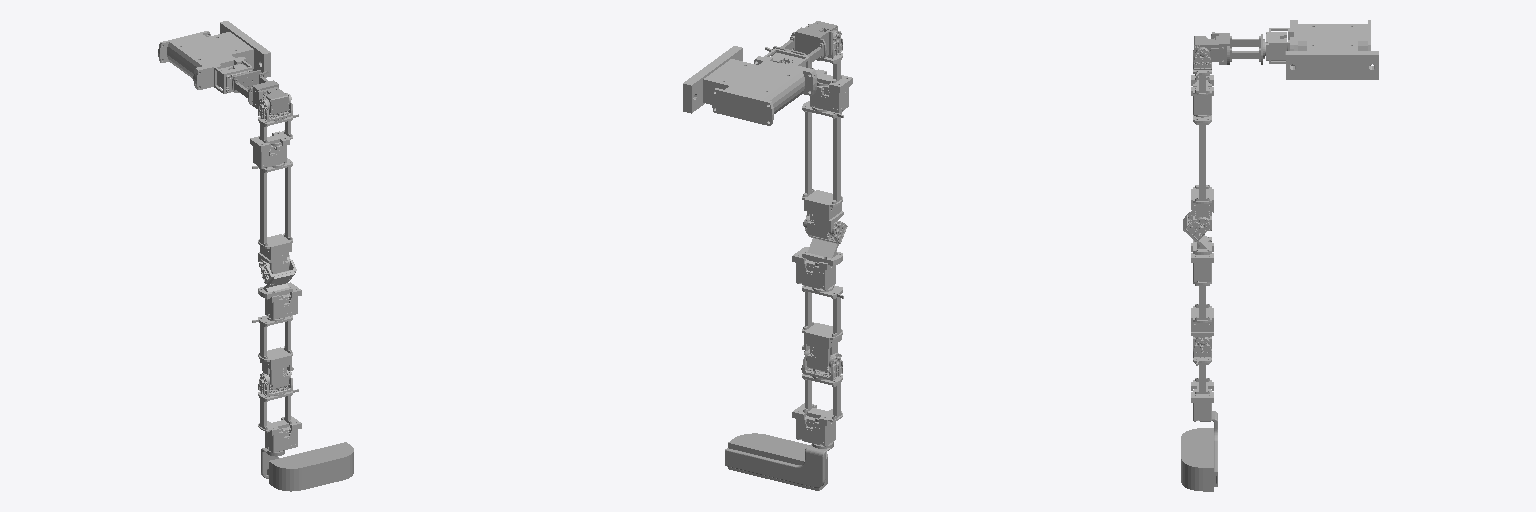
URDF robot description (UH-v3.0 final.SLDASM v9):
<?xml version="1.0" encoding="utf-8"?>
<!-- This URDF was automatically created by SolidWorks to URDF Exporter! Originally created by Stephen Brawner (brawner@gmail.com) 
     Commit Version: 1.6.0-4-g7f85cfe  Build Version: 1.6.7995.38578
     For more information, please see http://wiki.ros.org/sw_urdf_exporter -->
<robot
  name="UH-v3.0 final.SLDASM v9">
  <link
    name="base_link">
    <inertial>
      <origin
        xyz="0.00561237713648539 -0.00649825664579372 0.0124886395093204"
        rpy="0 0 0" />
      <mass
        value="0.192970315600193" />
      <inertia
        ixx="0.000108537349210273"
        ixy="1.51872821036675E-07"
        ixz="-2.2783140434456E-08"
        iyy="0.000130879701084588"
        iyz="-8.40191538950099E-11"
        izz="0.000218823485546675" />
    </inertial>
    <visual>
      <origin
        xyz="0 0 0"
        rpy="0 0 0" />
      <geometry>
        <mesh
          filename="meshes/base_link.STL" />
      </geometry>
      <material
        name="">
        <color
          rgba="0.752941176470588 0.752941176470588 0.752941176470588 1" />
      </material>
    </visual>
    <collision>
      <origin
        xyz="0 0 0"
        rpy="0 0 0" />
      <geometry>
        <mesh
          filename="meshes/base_link.STL" />
      </geometry>
    </collision>
  </link>
  <link
    name="Link1">
    <inertial>
      <origin
        xyz="8.09453037325866E-05 -1.09903211080731E-05 0.0500472194620987"
        rpy="0 0 0" />
      <mass
        value="0.0247648095830755" />
      <inertia
        ixx="2.63934350117199E-06"
        ixy="-4.70495583271314E-09"
        ixz="-6.46232922456025E-08"
        iyy="2.83034827414882E-06"
        iyz="-1.32071852497692E-09"
        izz="1.91165957201145E-06" />
    </inertial>
    <visual>
      <origin
        xyz="0 0 0"
        rpy="0 0 0" />
      <geometry>
        <mesh
          filename="meshes/Link1.STL" />
      </geometry>
      <material
        name="">
        <color
          rgba="0.698039215686274 0.698039215686274 0.698039215686274 1" />
      </material>
    </visual>
    <collision>
      <origin
        xyz="0 0 0"
        rpy="0 0 0" />
      <geometry>
        <mesh
          filename="meshes/Link1.STL" />
      </geometry>
    </collision>
  </link>
  <joint
    name="joint1"
    type="revolute">
    <origin
      xyz="0.0038974 -0.073 0.0125"
      rpy="-1.5708 0 3.1416" />
    <parent
      link="base_link" />
    <child
      link="Link1" />
    <axis
      xyz="0 0 1" />
    <limit
      lower="-3.14"
      upper="3.14"
      effort="0.5"
      velocity="100" />
  </joint>
  <link
    name="Link2">
    <inertial>
      <origin
        xyz="0.0501926085488433 -5.13518808678559E-06 -0.022536046928789"
        rpy="0 0 0" />
      <mass
        value="0.0250912618003005" />
      <inertia
        ixx="3.54422284036095E-06"
        ixy="-2.61565647719116E-11"
        ixz="4.90268790499676E-09"
        iyy="3.14613516997195E-06"
        iyz="5.99951779801152E-09"
        izz="1.18567717430653E-06" />
    </inertial>
    <visual>
      <origin
        xyz="0 0 0"
        rpy="0 0 0" />
      <geometry>
        <mesh
          filename="meshes/Link2.STL" />
      </geometry>
      <material
        name="">
        <color
          rgba="0.752941176470588 0.752941176470588 0.752941176470588 1" />
      </material>
    </visual>
    <collision>
      <origin
        xyz="0 0 0"
        rpy="0 0 0" />
      <geometry>
        <mesh
          filename="meshes/Link2.STL" />
      </geometry>
    </collision>
  </link>
  <joint
    name="joint2"
    type="revolute">
    <origin
      xyz="-0.0173 0 0.068"
      rpy="-1.5708 0 1.5708" />
    <parent
      link="Link1" />
    <child
      link="Link2" />
    <axis
      xyz="0 0 -1" />
    <limit
      lower="-3.14"
      upper="3.14"
      effort="0.5"
      velocity="100" />
  </joint>
  <link
    name="Link3">
    <inertial>
      <origin
        xyz="0.00046571273066128 7.06111576197765E-05 0.098008924985185"
        rpy="0 0 0" />
      <mass
        value="0.0273650717145351" />
      <inertia
        ixx="5.95252288520201E-06"
        ixy="-2.51404793236614E-08"
        ixz="-1.02623991686038E-07"
        iyy="6.13411804142683E-06"
        iyz="-2.53861598094708E-08"
        izz="1.94088531281648E-06" />
    </inertial>
    <visual>
      <origin
        xyz="0 0 0"
        rpy="0 0 0" />
      <geometry>
        <mesh
          filename="meshes/Link3.STL" />
      </geometry>
      <material
        name="">
        <color
          rgba="0.752941176470588 0.752941176470588 0.752941176470588 1" />
      </material>
    </visual>
    <collision>
      <origin
        xyz="0 0 0"
        rpy="0 0 0" />
      <geometry>
        <mesh
          filename="meshes/Link3.STL" />
      </geometry>
    </collision>
  </link>
  <joint
    name="joint3"
    type="revolute">
    <origin
      xyz="0.075 0 -0.0173"
      rpy="0 1.5708 0" />
    <parent
      link="Link2" />
    <child
      link="Link3" />
    <axis
      xyz="0 0 -1" />
    <limit
      lower="-3.14"
      upper="3.14"
      effort="0.5"
      velocity="100" />
  </joint>
  <link
    name="Link4">
    <inertial>
      <origin
        xyz="-0.0419896820350397 -0.00127753085812457 -0.0224358318023682"
        rpy="0 0 0" />
      <mass
        value="0.0258917537291028" />
      <inertia
        ixx="3.82289080194557E-06"
        ixy="1.76923108080445E-07"
        ixz="-6.31756065737031E-09"
        iyy="3.47125324025841E-06"
        iyz="-6.72291875042932E-10"
        izz="1.53989864986402E-06" />
    </inertial>
    <visual>
      <origin
        xyz="0 0 0"
        rpy="0 0 0" />
      <geometry>
        <mesh
          filename="meshes/Link4.STL" />
      </geometry>
      <material
        name="">
        <color
          rgba="0.752941176470588 0.752941176470588 0.752941176470588 1" />
      </material>
    </visual>
    <collision>
      <origin
        xyz="0 0 0"
        rpy="0 0 0" />
      <geometry>
        <mesh
          filename="meshes/Link4.STL" />
      </geometry>
    </collision>
  </link>
  <joint
    name="joint4"
    type="revolute">
    <origin
      xyz="0.0173 0 0.128"
      rpy="0 1.5708 0" />
    <parent
      link="Link3" />
    <child
      link="Link4" />
    <axis
      xyz="0 0 1" />
    <limit
      lower="-3.14"
      upper="3.14"
      effort="0.5"
      velocity="100" />
  </joint>
  <link
    name="Link5">
    <inertial>
      <origin
        xyz="-7.9659279051408E-05 0.00444604569852089 0.0576003426534185"
        rpy="0 0 0" />
      <mass
        value="0.025164614315877" />
      <inertia
        ixx="2.82377177669697E-06"
        ixy="-4.70495583271325E-09"
        ixz="6.4623292245603E-08"
        iyy="3.01324807849294E-06"
        iyz="1.3207185249759E-09"
        izz="1.91425361842378E-06" />
    </inertial>
    <visual>
      <origin
        xyz="0 0 0"
        rpy="0 0 0" />
      <geometry>
        <mesh
          filename="meshes/Link5.STL" />
      </geometry>
      <material
        name="">
        <color
          rgba="0.752941176470588 0.752941176470588 0.752941176470588 1" />
      </material>
    </visual>
    <collision>
      <origin
        xyz="0 0 0"
        rpy="0 0 0" />
      <geometry>
        <mesh
          filename="meshes/Link5.STL" />
      </geometry>
    </collision>
  </link>
  <joint
    name="joint5"
    type="revolute">
    <origin
      xyz="-0.065027 -0.0044352 -0.0173"
      rpy="0 -1.5708 0" />
    <parent
      link="Link4" />
    <child
      link="Link5" />
    <axis
      xyz="0 0 1" />
    <limit
      lower="-3.14"
      upper="3.14"
      effort="0.5"
      velocity="100" />
  </joint>
  <link
    name="Link6">
    <inertial>
      <origin
        xyz="-0.0615583830137304 -1.05939374421549E-05 -0.0224789208044751"
        rpy="0 0 0" />
      <mass
        value="0.0256914118358871" />
      <inertia
        ixx="3.54799287343329E-06"
        ixy="-1.41881743012641E-10"
        ixz="-5.38598418793804E-09"
        iyy="3.32687013710215E-06"
        iyz="-5.99951779801431E-09"
        izz="1.36858362271785E-06" />
    </inertial>
    <visual>
      <origin
        xyz="0 0 0"
        rpy="0 0 0" />
      <geometry>
        <mesh
          filename="meshes/Link6.STL" />
      </geometry>
      <material
        name="">
        <color
          rgba="0.752941176470588 0.752941176470588 0.752941176470588 1" />
      </material>
    </visual>
    <collision>
      <origin
        xyz="0 0 0"
        rpy="0 0 0" />
      <geometry>
        <mesh
          filename="meshes/Link6.STL" />
      </geometry>
    </collision>
  </link>
  <joint
    name="joint6"
    type="revolute">
    <origin
      xyz="0.0173 0.0044352 0.077151"
      rpy="0 1.5708 0" />
    <parent
      link="Link5" />
    <child
      link="Link6" />
    <axis
      xyz="0 0 1" />
    <limit
      lower="-3.14"
      upper="3.14"
      effort="0.5"
      velocity="100" />
  </joint>
  <link
    name="Link7">
    <inertial>
      <origin
        xyz="-0.0456918776102906 -0.00159180881516718 0.0322192933350764"
        rpy="0 0 0" />
      <mass
        value="0.0603672149333555" />
      <inertia
        ixx="9.65136533704963E-06"
        ixy="5.55975997705986E-08"
        ixz="1.38653144457175E-06"
        iyy="5.32336306038504E-05"
        iyz="-3.15142393687126E-08"
        izz="5.43275113234997E-05" />
    </inertial>
    <visual>
      <origin
        xyz="0 0 0"
        rpy="0 0 0" />
      <geometry>
        <mesh
          filename="meshes/Link7.STL" />
      </geometry>
      <material
        name="">
        <color
          rgba="0.698039215686274 0.698039215686274 0.698039215686274 1" />
      </material>
    </visual>
    <collision>
      <origin
        xyz="0 0 0"
        rpy="0 0 0" />
      <geometry>
        <mesh
          filename="meshes/Link7.STL" />
      </geometry>
    </collision>
  </link>
  <joint
    name="joint7"
    type="revolute">
    <origin
      xyz="-0.09 0 -0.0173"
      rpy="0 -1.5708 0" />
    <parent
      link="Link6" />
    <child
      link="Link7" />
    <axis
      xyz="0 0 1" />
    <limit
      lower="-3.14"
      upper="3.14"
      effort="0.5"
      velocity="100" />
  </joint>
</robot>

--- Render facts (derived) ---
The picture shows the robot from 3 angles, left to right: view 1: azimuth 30°, elevation 25°; view 2: azimuth 150°, elevation 25°; view 3: azimuth 270°, elevation 25°; orthographic projection.
Robot: UH-v3.0 final.SLDASM v9 — 8 links, 7 joints (7 revolute); root link base_link; default pose: all joints at 0.
Visible links, largest first — view 1: base_link, Link7, Link3, Link6, Link2, Link4, Link5, Link1; view 2: base_link, Link7, Link3, Link6, Link5, Link4, Link2, Link1; view 3: base_link, Link7, Link1, Link6, Link3, Link4, Link2, Link5.
Boxes of the visible links, bbox=[...] form: base_link: bbox=[158, 21, 270, 93]; Link7: bbox=[261, 442, 353, 491]; Link3: bbox=[252, 158, 292, 273]; Link6: bbox=[258, 371, 301, 452]; Link2: bbox=[250, 93, 298, 168]; Link4: bbox=[258, 255, 301, 319]; Link5: bbox=[252, 315, 293, 389]; Link1: bbox=[232, 70, 289, 114]; base_link: bbox=[683, 46, 817, 125]; Link7: bbox=[725, 433, 833, 490]; Link3: bbox=[802, 101, 843, 239]; Link6: bbox=[792, 350, 842, 446]; Link5: bbox=[802, 285, 843, 371]; Link4: bbox=[792, 215, 847, 290]; Link2: bbox=[805, 24, 852, 112]; Link1: bbox=[765, 21, 837, 63]; base_link: bbox=[1265, 20, 1378, 79]; Link7: bbox=[1181, 411, 1217, 491]; Link1: bbox=[1194, 32, 1264, 64]; Link6: bbox=[1191, 337, 1213, 421]; Link3: bbox=[1191, 114, 1213, 230]; Link4: bbox=[1183, 210, 1213, 281]; Link2: bbox=[1191, 37, 1213, 114]; Link5: bbox=[1191, 281, 1213, 348].
Size in the robot's own frame: 0.1485 by 0.214 by 0.4978 metres.
8 mesh visuals loaded from 8 distinct referenced files (8 binary STL).
